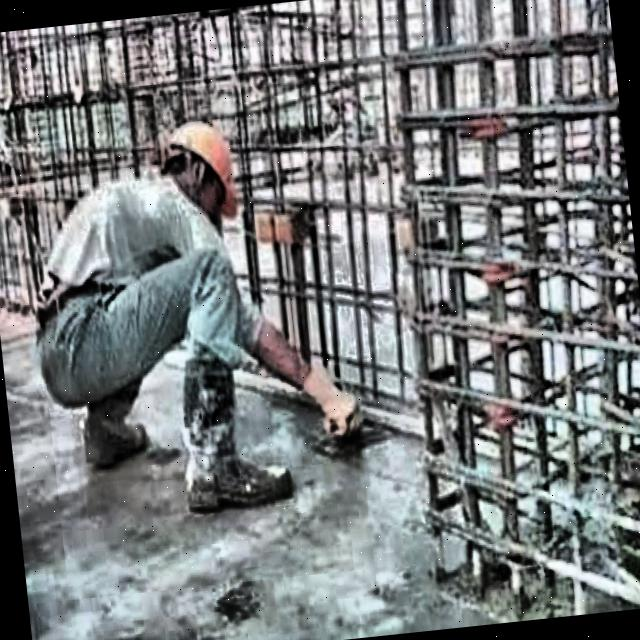helmet: (151, 106, 245, 228)
